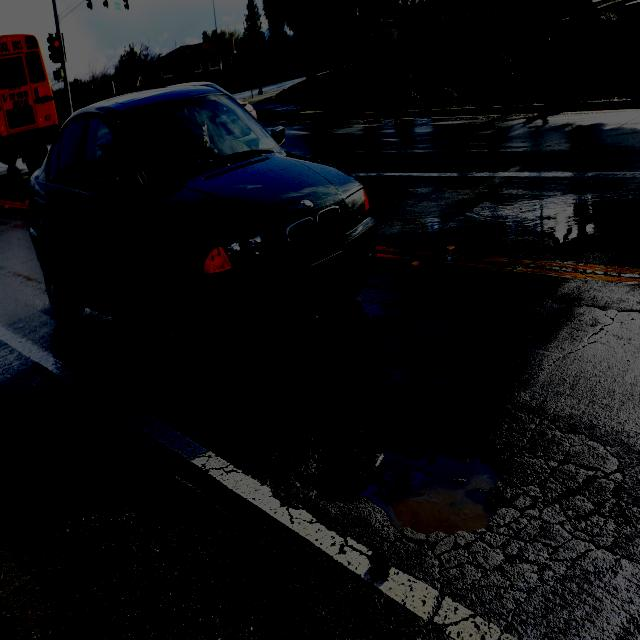Pothole: (259, 378, 628, 589)
